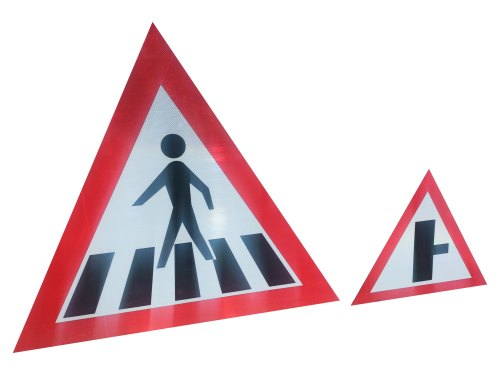pedestrian: (57, 89, 307, 326)
